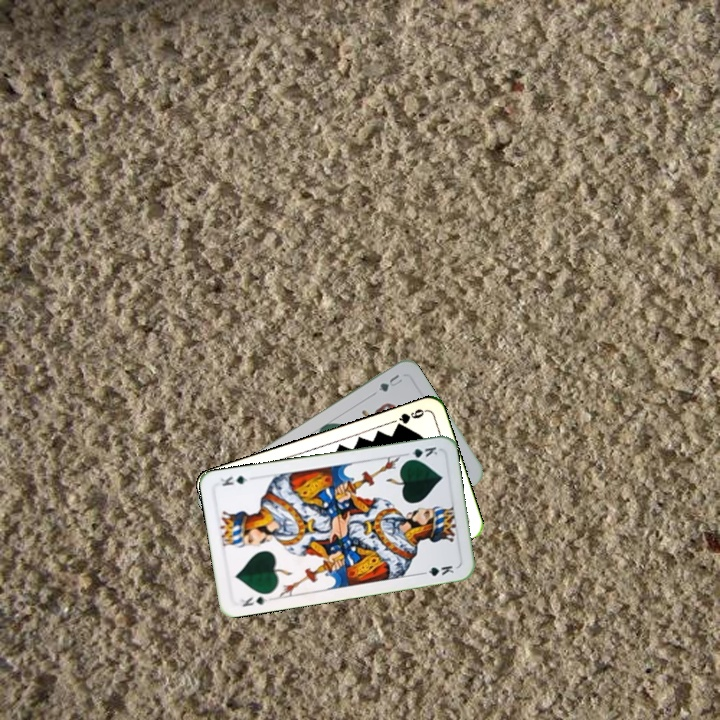G9: (391, 405, 429, 431)
GK: (401, 443, 440, 463), (237, 592, 270, 609)
GU: (374, 370, 405, 394)
